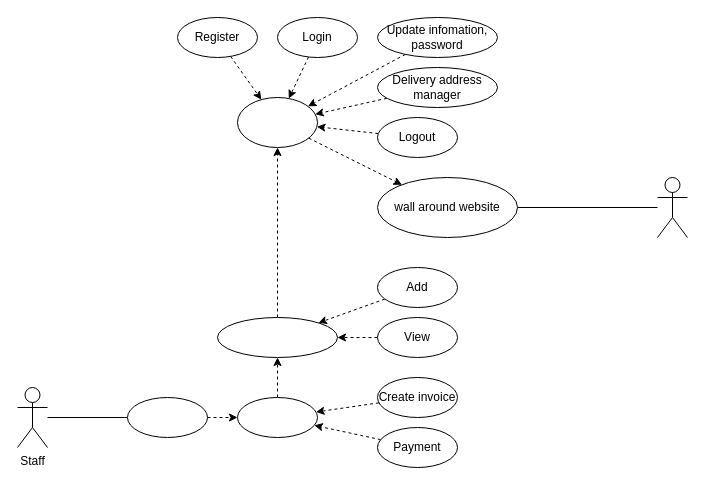
The diagram is 718 pixels wide and 486 high, and some of its shapes have lost their labels. Here are the shapes that lost their labels. From the top down, the centre of each, then its label:
At point 277,122: "User action".
At point 672,207: "Custormer".
At point 277,337: "Shopping cart action".
At point 167,417: "Check order".
At point 277,417: "Order action".
